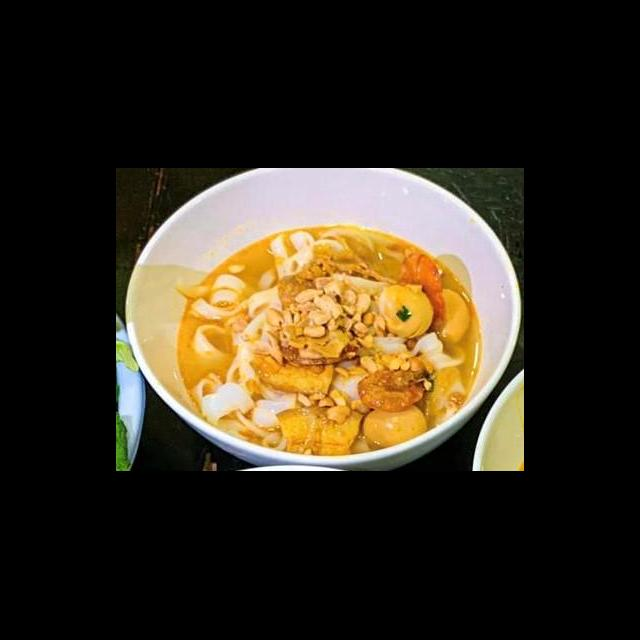mi: (182, 270, 299, 450), (269, 222, 373, 282), (369, 326, 468, 374)
thit heo: (272, 404, 365, 458)
tom: (394, 250, 448, 334), (355, 366, 430, 414)
trung: (359, 400, 431, 452), (376, 282, 435, 340), (431, 286, 474, 346)
